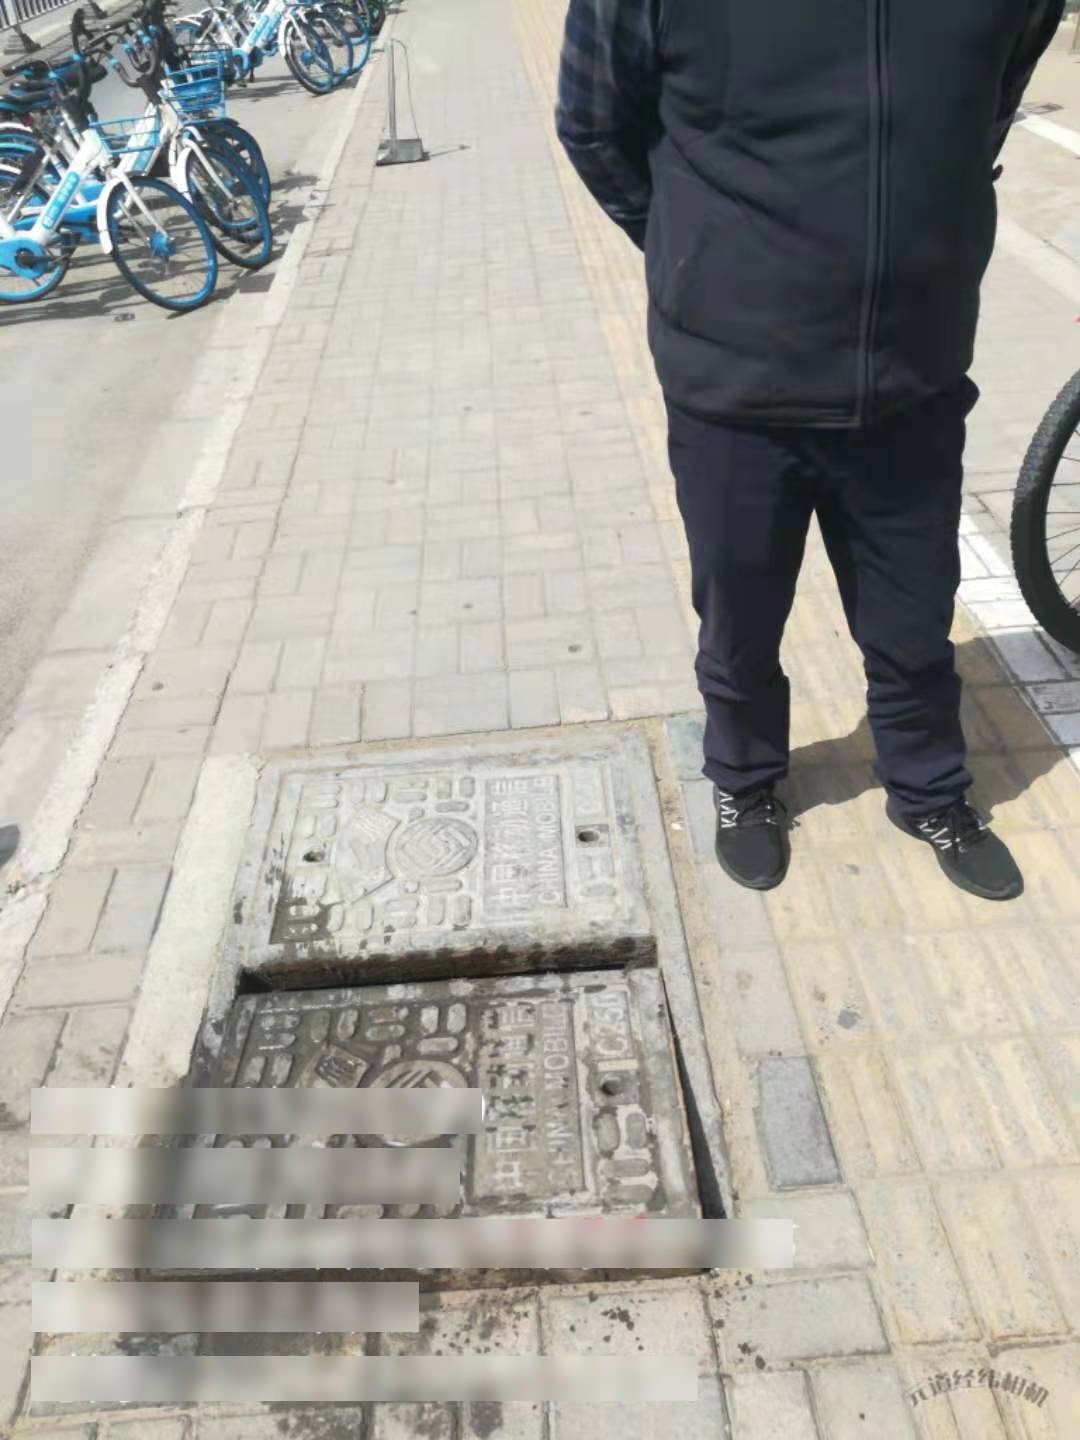uncovered: (130, 734, 750, 1298)
